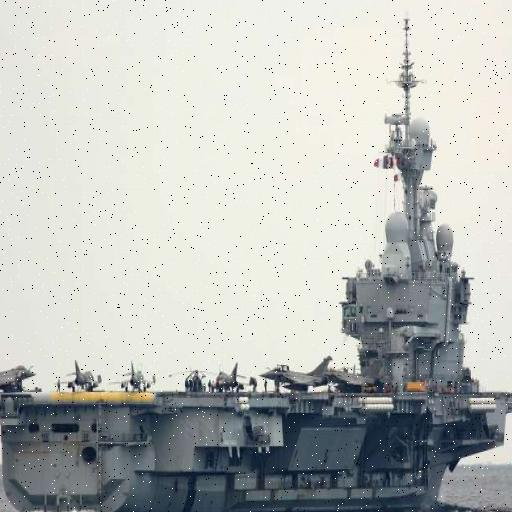Portanaves: (1, 8, 512, 512)
